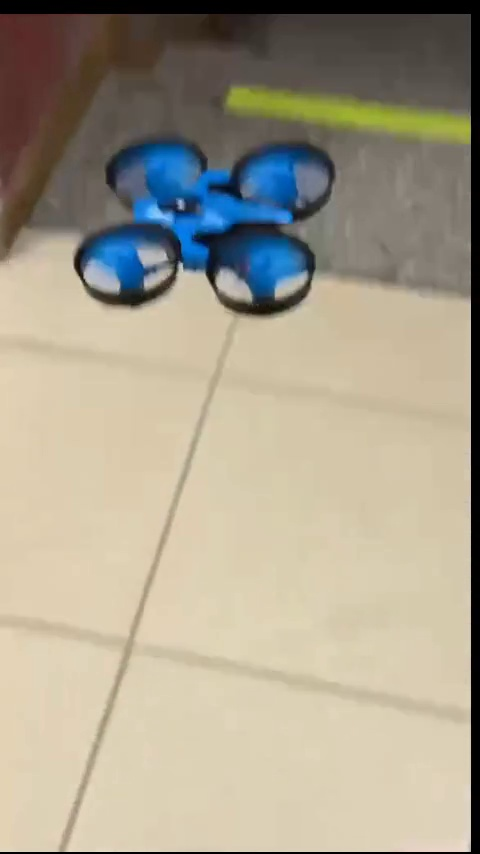drone: (74, 138, 336, 306)
